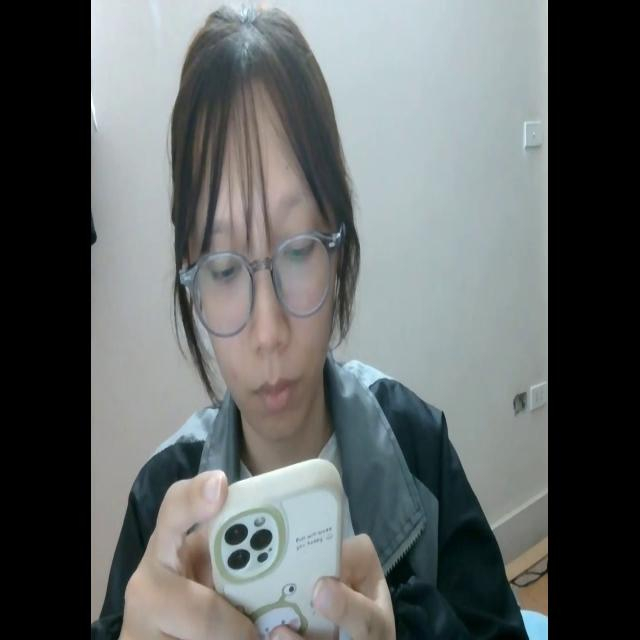phone: (206, 454, 346, 640)
student: (99, 6, 531, 640)
